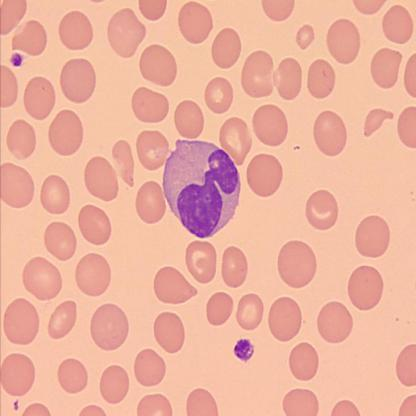Atypical lymphocyte: (164, 141, 239, 237)
